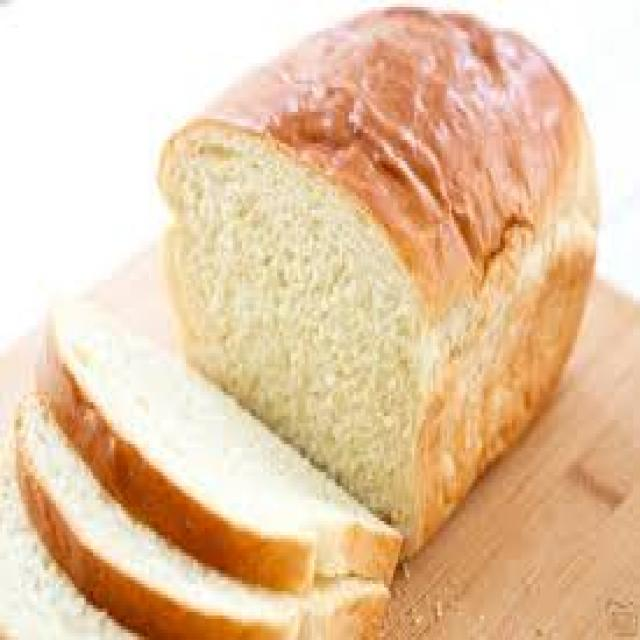organic waste: (154, 4, 594, 556), (42, 308, 400, 591), (11, 402, 388, 637)
